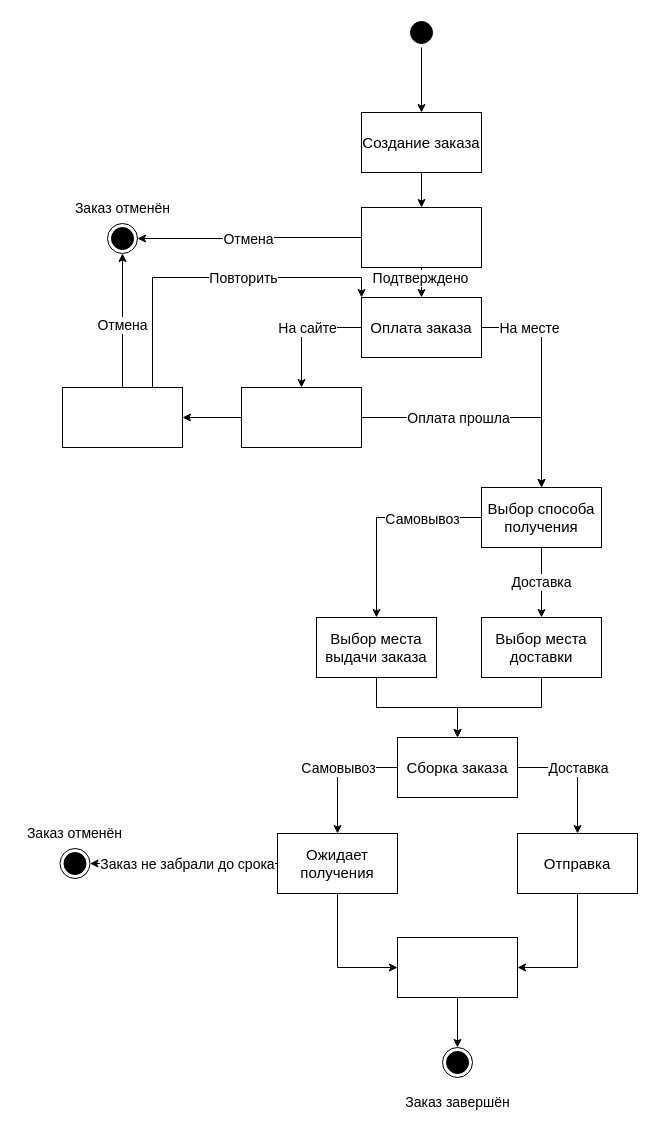
Some shapes in this 655 by 1135 pixel diagram are drawn without their labels. Each missing label, with the centre of its shape:
"Выбор оплаты" goes at (301,417).
"Оплата не прошла" goes at (122,417).
"Подтверждение заказа" goes at (421,237).
"Подтверждение получения" goes at (457,967).
